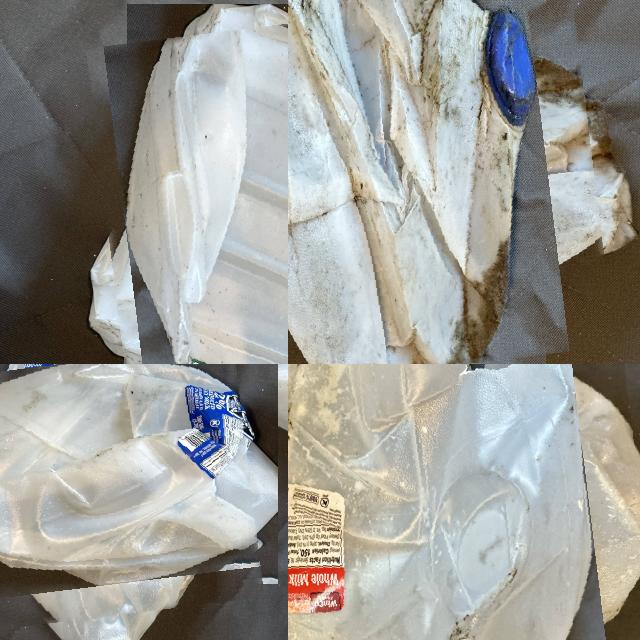milk-jug: (288, 0, 603, 364), (288, 364, 640, 640), (97, 9, 288, 364), (0, 364, 256, 622)
